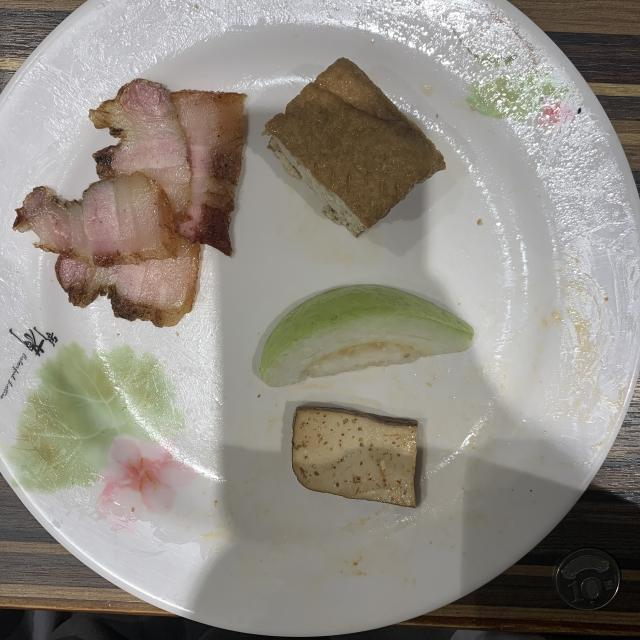coin: (554, 548, 621, 610)
egg tofu: (262, 58, 445, 236)
firm tofu: (292, 406, 418, 508)
grilled pork: (14, 79, 245, 326)
guava -sliced-: (260, 285, 474, 386)
